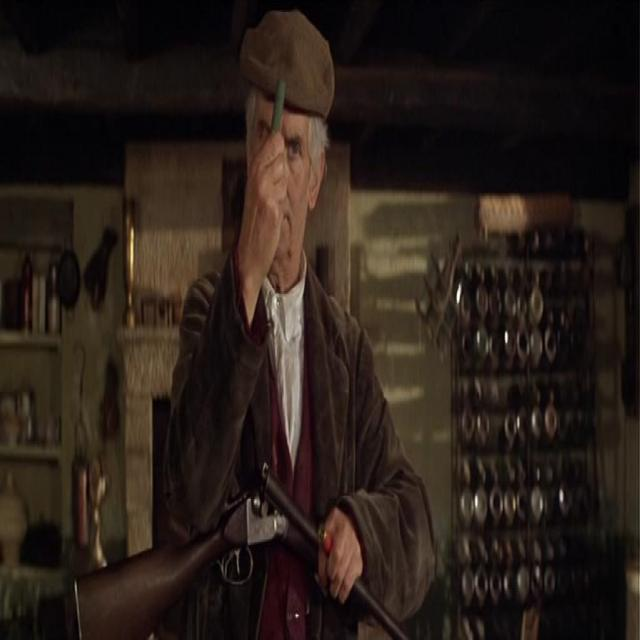gun-knife-thesis - v11 Yolov5 augmented: (57, 448, 435, 638)
